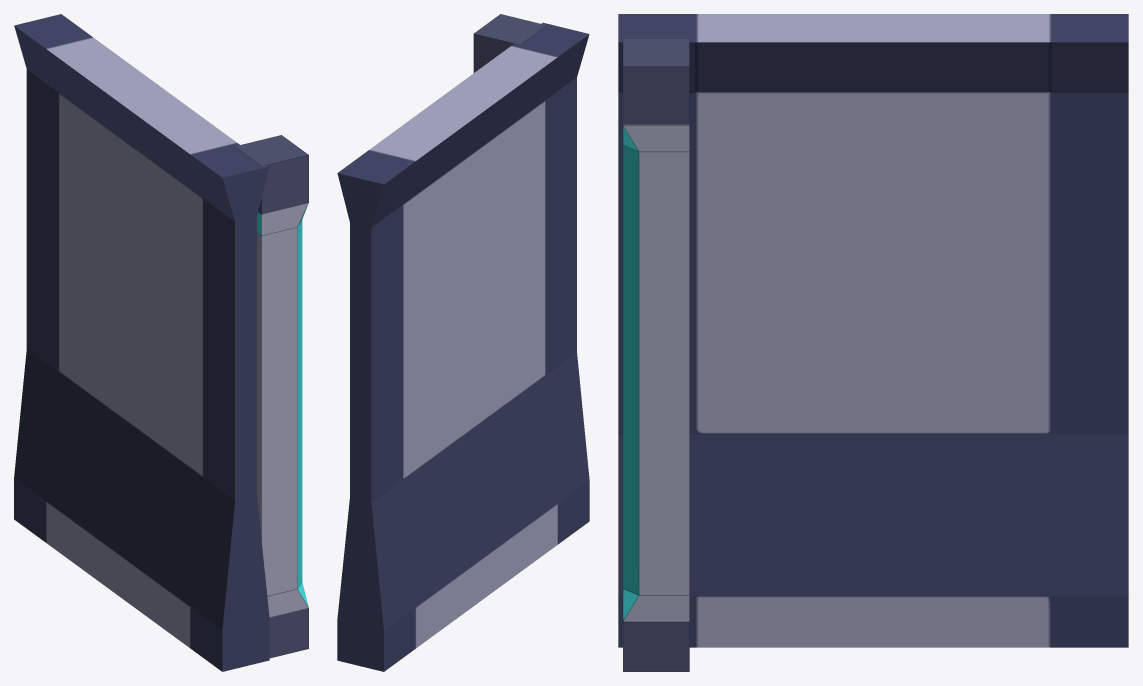
File: Wall_RightsideDoor.fbx
3 renders of one model, left to right at view 1: azimuth 30°, elevation 25°; view 2: azimuth 150°, elevation 25°; view 3: azimuth 270°, elevation 25°, orthographic. The views are drawn at different scales.
Parts seen in each view (by area): view 1: Cube.007; view 2: Cube.007; view 3: Cube.007.
Part boxes in pixels (x1,y1,x2,y2): Cube.007: (14,14,308,671); Cube.007: (337,14,589,671); Cube.007: (618,14,1128,671).
Bounding box in the file's own units: 56.14 × 300 × 229.
